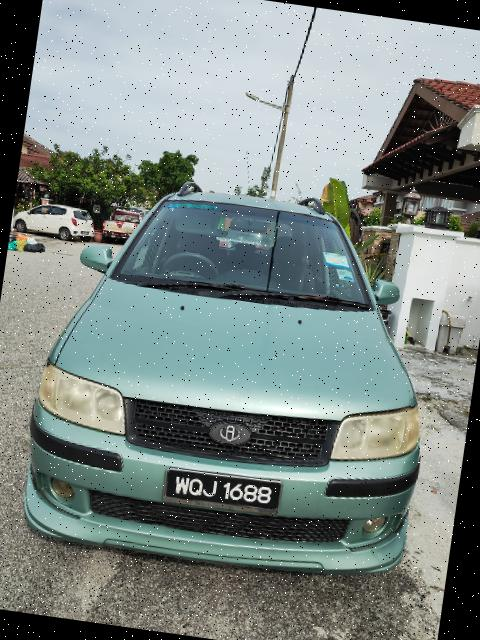License_Plate: (162, 471, 285, 514)
car: (6, 169, 461, 601)
